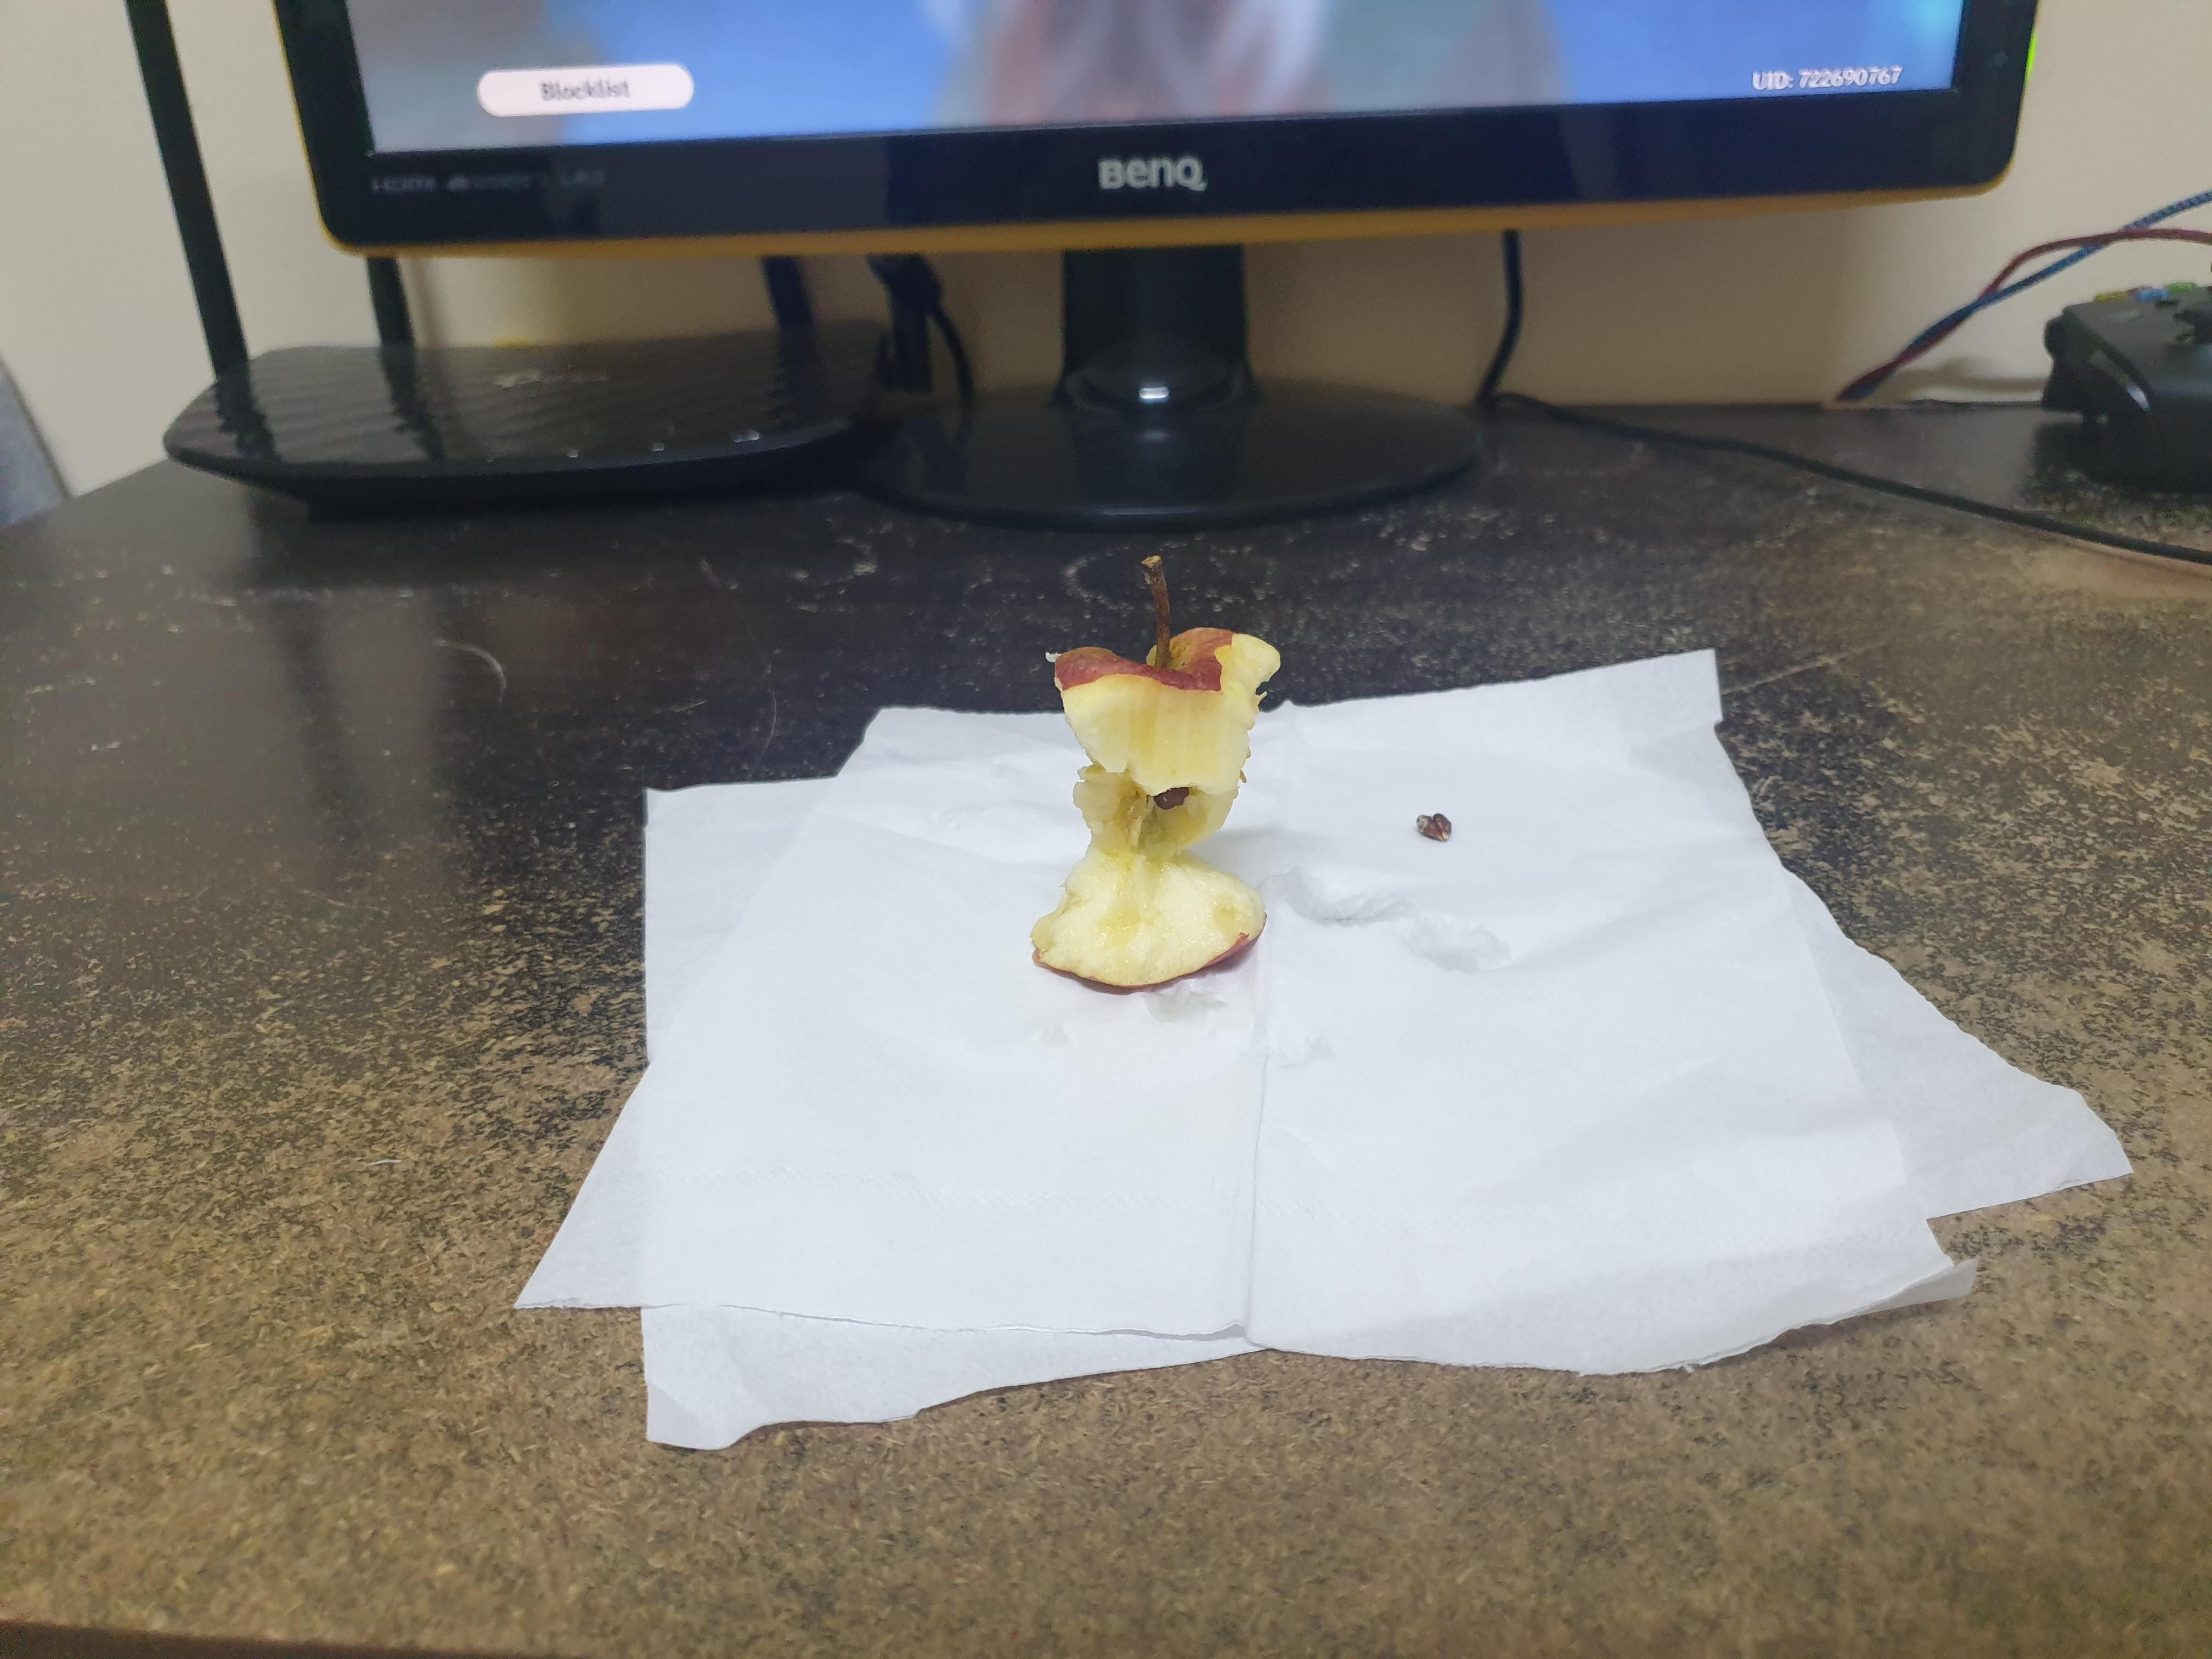Apple: (1007, 530, 1305, 1051)
